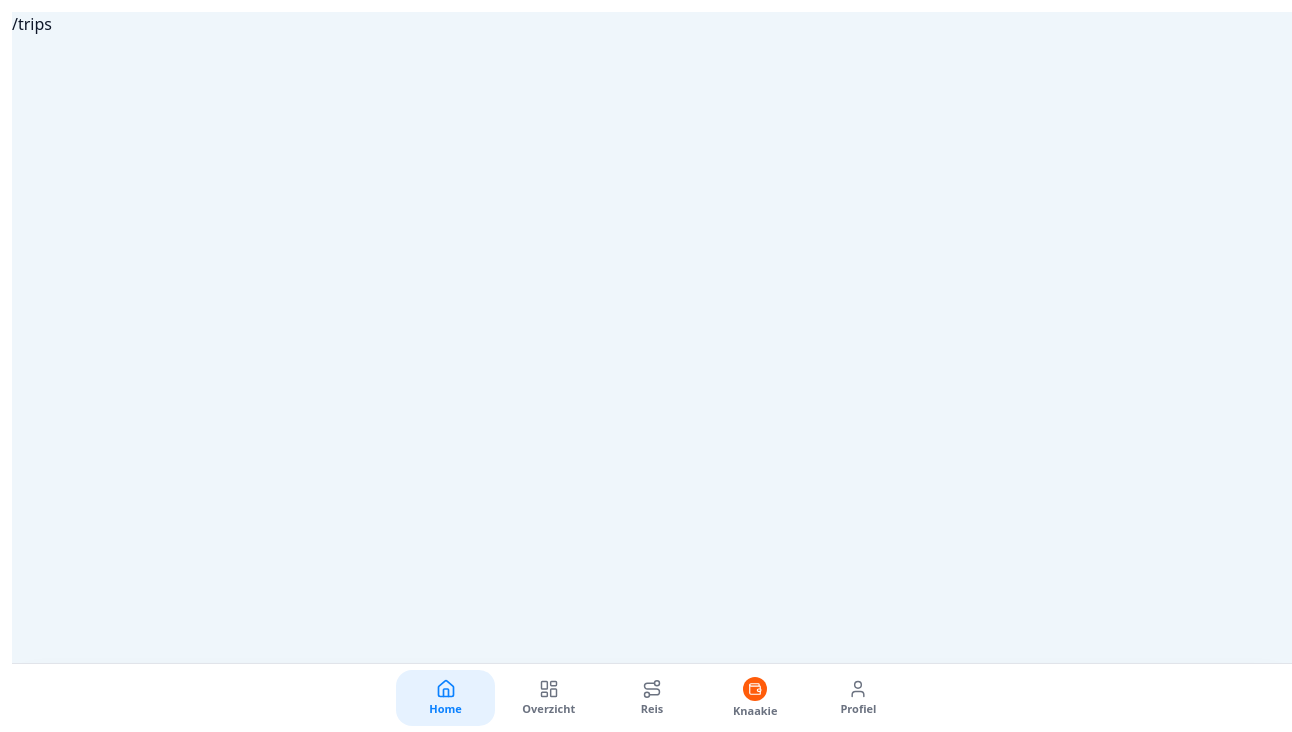
Test: Knaakie footer shortcut › opens Profile directly from /trips
This screenshot has width=1292, height=732.
Click the link "Profiel" at (858, 697), box 840,679 -> 876,716
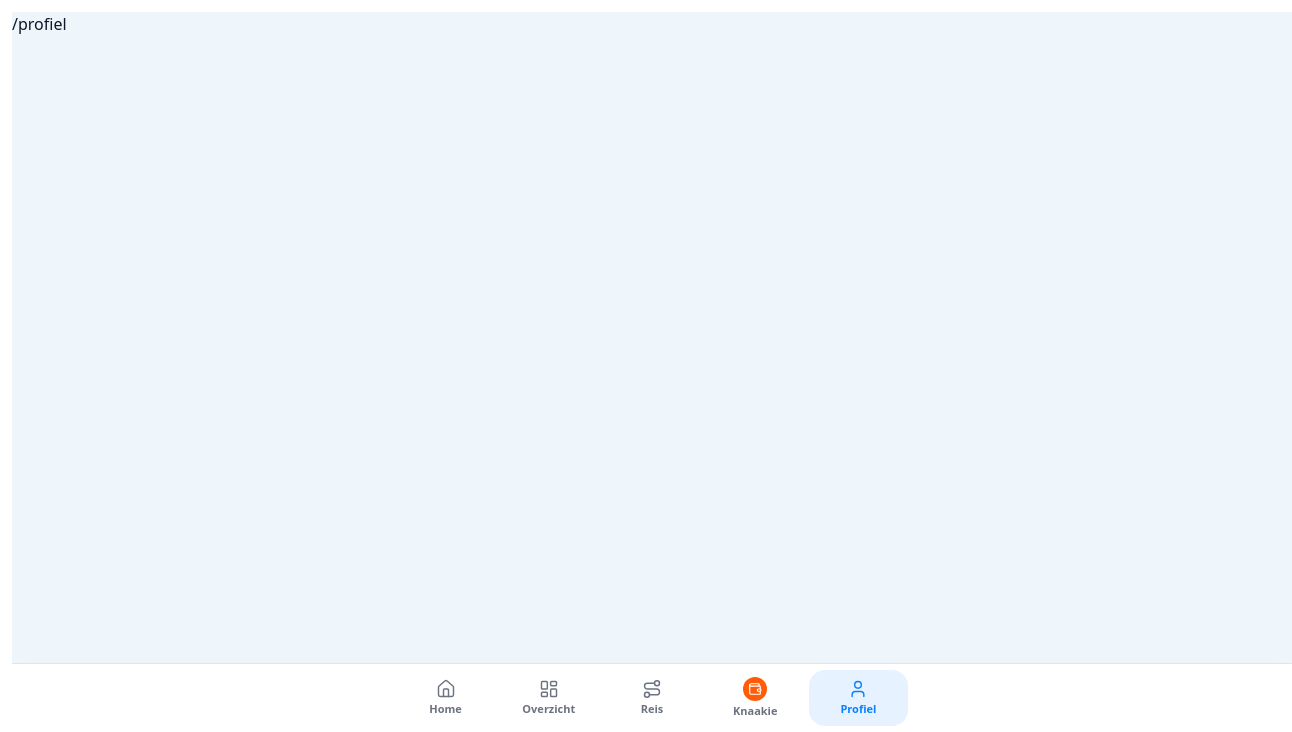
Now the text with test id "destination" reads "/profiel", box 12,13 -> 66,35
